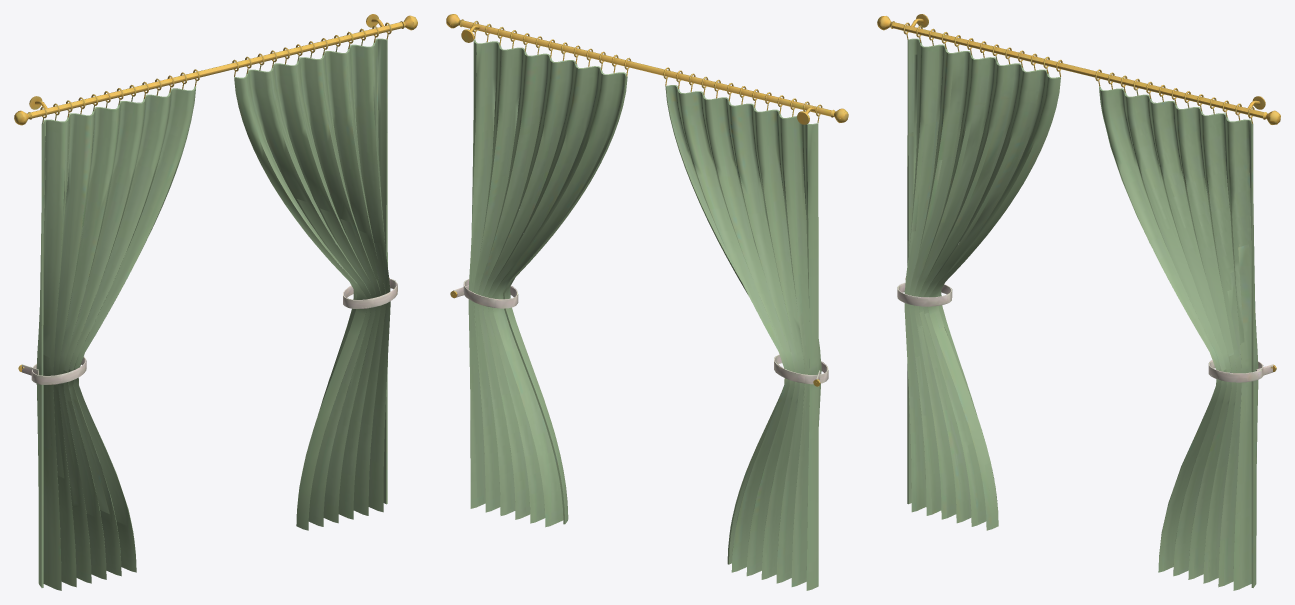
The model's file is curtains.glb.
3 renders of one model, left to right at view 1: azimuth 30°, elevation 25°; view 2: azimuth 150°, elevation 25°; view 3: azimuth 330°, elevation 25°, orthographic.
Visible parts, largest first — view 1: curtains_body; view 2: curtains_body; view 3: curtains_body.
Part boxes in pixels (box(x1,y1,x2,y2)): curtains_body: box(14, 14, 417, 590); curtains_body: box(446, 14, 848, 590); curtains_body: box(877, 14, 1280, 590).
Bounding box in the file's own units: 2.05 × 2.36 × 0.1915.
Materials: 1 (1 with a texture image).
